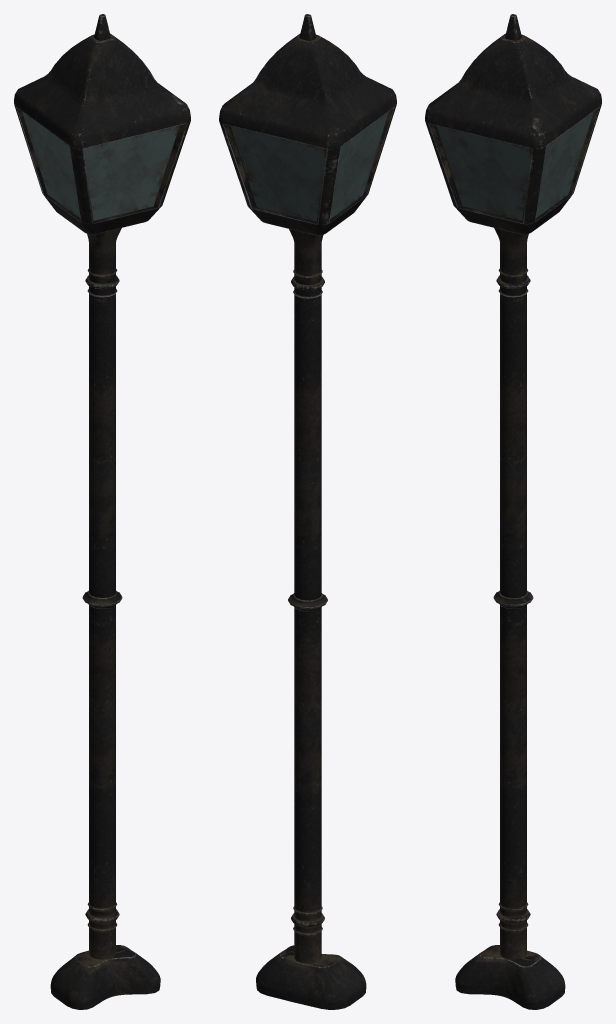
The model's file is Street Lamp.fbx.
3 renders of one model, left to right at view 1: azimuth 30°, elevation 25°; view 2: azimuth 150°, elevation 25°; view 3: azimuth 330°, elevation 25°, orthographic.
Visible parts, largest first — view 1: Old Street Lamp; view 2: Old Street Lamp; view 3: Old Street Lamp.
Part boxes in pixels (x1,y1,x2,y2): Old Street Lamp: (14, 14, 190, 1009); Old Street Lamp: (219, 14, 396, 1009); Old Street Lamp: (425, 14, 601, 1009).
Bounding box in the file's own units: 43.65 × 340 × 41.77.
